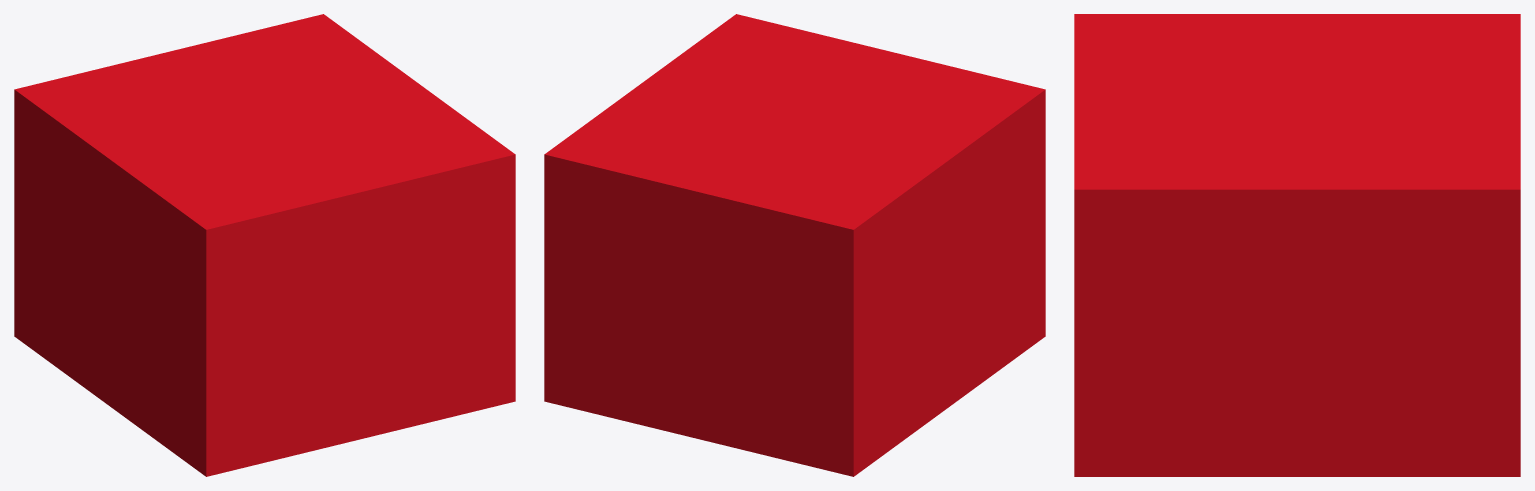
The model's file is pointsInLine.glb.
The picture shows the model from 3 angles, left to right: view 1: azimuth 30°, elevation 25°; view 2: azimuth 150°, elevation 25°; view 3: azimuth 270°, elevation 25°; orthographic projection. The views are drawn at different scales.
Visible parts, largest first — view 1: Cube; view 2: Cube; view 3: Cube.
Boxes of the visible parts, <box> form: Cube: <box>14,14,515,476</box>; Cube: <box>544,14,1045,476</box>; Cube: <box>1074,14,1520,476</box>.
Size of what is drawn, in the model's own units: 0.2354 by 0.1797 by 0.2529.
